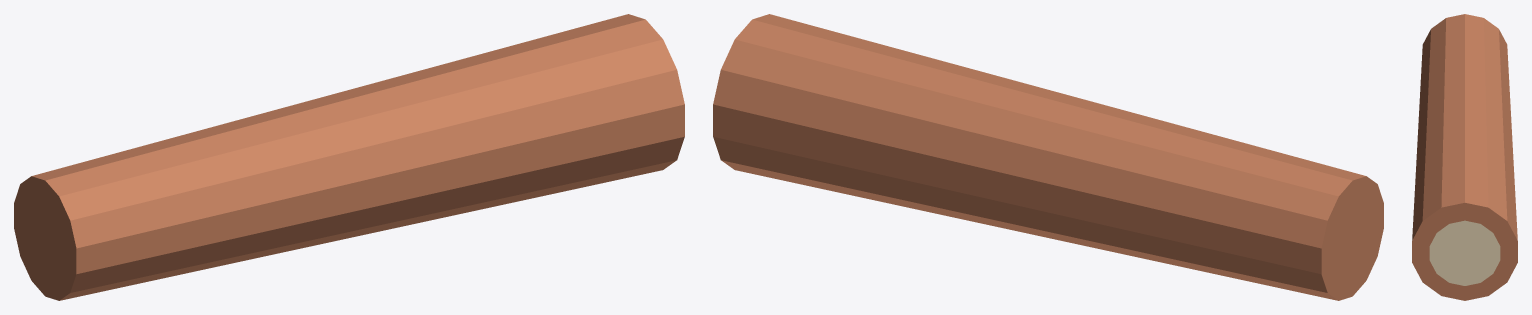
File: desert-canyons-and-oases-petrified-log-ec987b7d__21020.glb
3 renders of one model, left to right at view 1: azimuth 30°, elevation 25°; view 2: azimuth 150°, elevation 25°; view 3: azimuth 270°, elevation 25°, orthographic. The views are drawn at different scales.
Parts seen in each view (by area): view 1: petrified-log; view 2: petrified-log; view 3: petrified-log.
Part boxes in pixels (x1=…): petrified-log: x1=14, y1=14, x2=684, y2=300; petrified-log: x1=713, y1=14, x2=1383, y2=300; petrified-log: x1=1412, y1=14, x2=1517, y2=300.
Bounding box in the file's own units: 2.62 × 0.5999 × 0.585.
